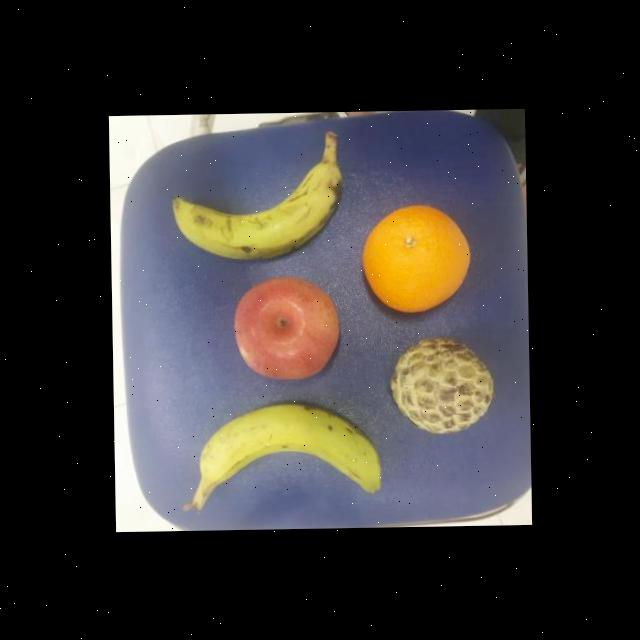Sakya fruit: (384, 333, 499, 438)
apple: (230, 276, 342, 385)
banana: (194, 398, 381, 500), (170, 158, 344, 264)
orange: (356, 204, 474, 314)
